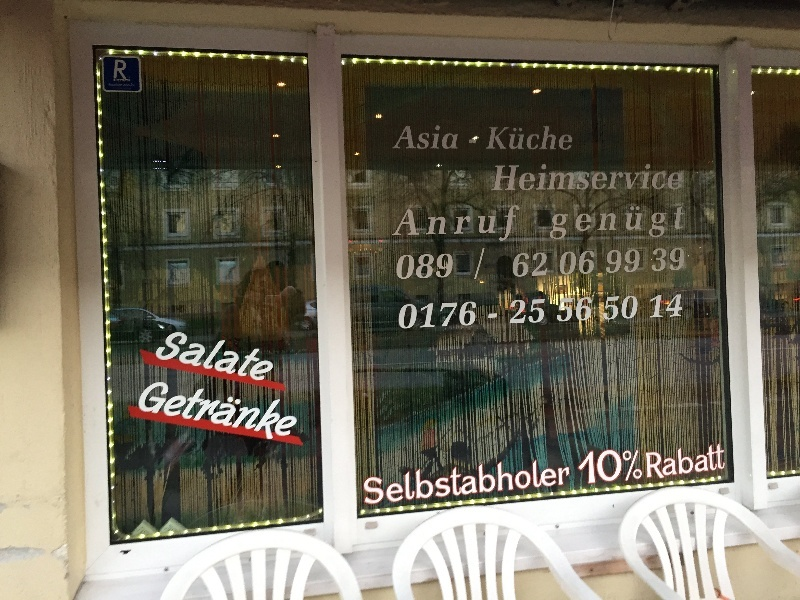text: (161, 377, 176, 444), (177, 377, 192, 444), (193, 377, 208, 444), (209, 377, 224, 444), (225, 377, 240, 444), (241, 377, 256, 444), (257, 377, 272, 444), (273, 377, 288, 444), (289, 377, 302, 444), (177, 330, 192, 382), (193, 330, 208, 382), (209, 330, 224, 382), (225, 330, 240, 382), (241, 330, 256, 382), (257, 330, 272, 382), (369, 456, 384, 506), (385, 456, 400, 506), (401, 456, 416, 506), (417, 456, 432, 506), (433, 456, 448, 506), (449, 456, 464, 506), (465, 456, 480, 506), (481, 456, 496, 506), (497, 456, 512, 506), (513, 456, 528, 506), (529, 456, 544, 506), (545, 456, 560, 506), (593, 447, 608, 486), (609, 447, 624, 486), (625, 447, 640, 486), (657, 443, 672, 480), (673, 443, 688, 480), (689, 443, 704, 480), (705, 443, 720, 480), (578, 447, 592, 486), (417, 206, 432, 242), (433, 206, 448, 242), (449, 206, 464, 242), (465, 206, 480, 242), (481, 206, 496, 242), (497, 206, 512, 242), (152, 377, 160, 444), (561, 204, 576, 239), (577, 204, 592, 239), (593, 204, 608, 239), (609, 204, 624, 239), (625, 204, 640, 239), (641, 204, 656, 239), (657, 204, 672, 239), (561, 456, 570, 506), (401, 301, 416, 329), (417, 301, 432, 329), (433, 301, 448, 329), (449, 301, 464, 329), (673, 204, 685, 239), (513, 164, 528, 192), (529, 164, 544, 192), (545, 164, 560, 192), (561, 164, 576, 192), (577, 164, 592, 192), (593, 164, 608, 192), (609, 164, 624, 192), (625, 164, 640, 192), (641, 164, 656, 192), (657, 164, 672, 192), (625, 249, 641, 274), (498, 164, 512, 192), (401, 254, 416, 280), (417, 254, 432, 280), (433, 254, 448, 280), (577, 298, 593, 322), (513, 299, 528, 324), (529, 299, 544, 324), (609, 249, 624, 274), (646, 443, 656, 480), (169, 330, 176, 382), (273, 330, 280, 382), (609, 296, 624, 320), (657, 294, 672, 318), (657, 248, 672, 272), (561, 298, 576, 322), (529, 253, 544, 277), (417, 126, 432, 150), (433, 126, 448, 150), (497, 127, 512, 151), (513, 127, 528, 151), (529, 127, 544, 151), (545, 127, 560, 151), (577, 252, 592, 275), (465, 301, 477, 329), (625, 296, 639, 320), (562, 252, 576, 275), (515, 253, 528, 277), (673, 248, 685, 272), (408, 206, 416, 242), (513, 206, 521, 242), (561, 127, 573, 151), (673, 294, 683, 318), (406, 126, 416, 150), (116, 60, 128, 79), (673, 164, 681, 192), (449, 126, 458, 150), (554, 204, 560, 239), (449, 254, 455, 280), (365, 456, 368, 506), (721, 443, 725, 480), (545, 253, 551, 277), (490, 127, 496, 151), (481, 249, 485, 280), (651, 294, 656, 318), (477, 249, 480, 280), (113, 83, 128, 87), (654, 248, 656, 272), (593, 252, 595, 275), (470, 140, 480, 144), (641, 447, 642, 486), (489, 313, 496, 318), (511, 299, 512, 324), (545, 299, 546, 324), (129, 83, 135, 87), (607, 296, 608, 320), (109, 83, 112, 87), (497, 313, 498, 318)
